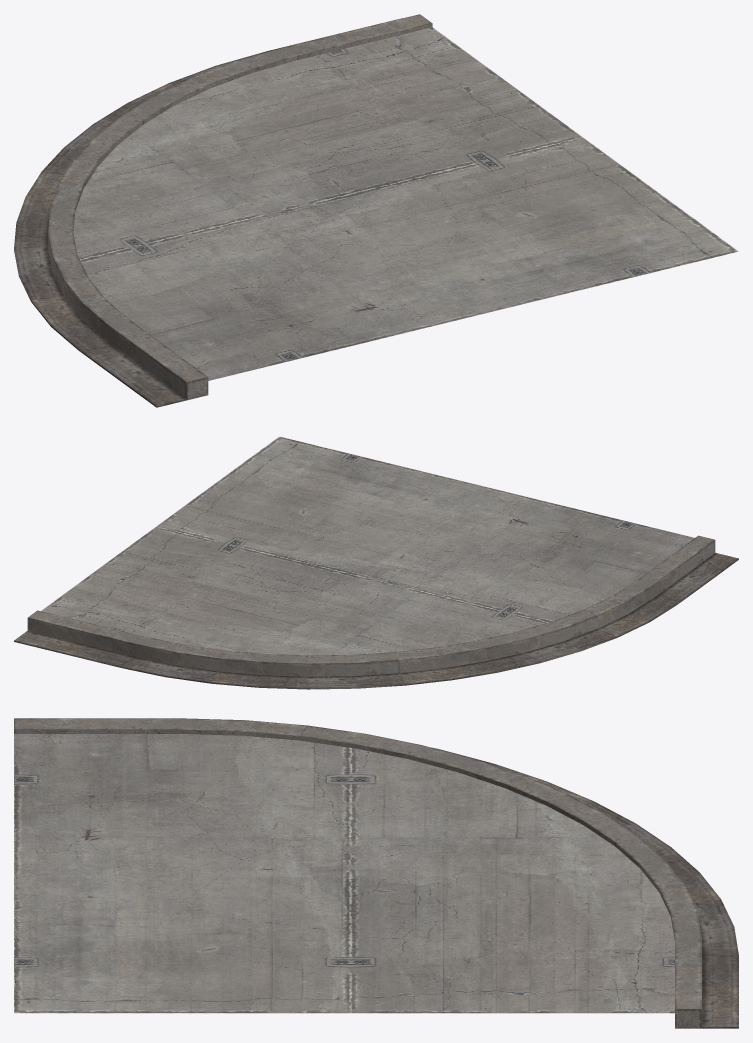
Rendered from CP_Curbstone_Angle_Out_01.fbx.
The picture shows the model from 3 angles, top to bottom: view 1: azimuth 30°, elevation 25°; view 2: azimuth 150°, elevation 25°; view 3: azimuth 270°, elevation 25°; orthographic projection. The views are drawn at different scales.
Visible parts, largest first — view 1: CP_Curbstone_Angle_Out_01_LOD0; view 2: CP_Curbstone_Angle_Out_01_LOD0; view 3: CP_Curbstone_Angle_Out_01_LOD0.
Boxes of the visible parts, <box> form: CP_Curbstone_Angle_Out_01_LOD0: <box>14,14,738,407</box>; CP_Curbstone_Angle_Out_01_LOD0: <box>14,436,738,689</box>; CP_Curbstone_Angle_Out_01_LOD0: <box>14,718,738,1028</box>.
Size of what is drawn, in the model's own units: 430 by 12.77 by 430.
